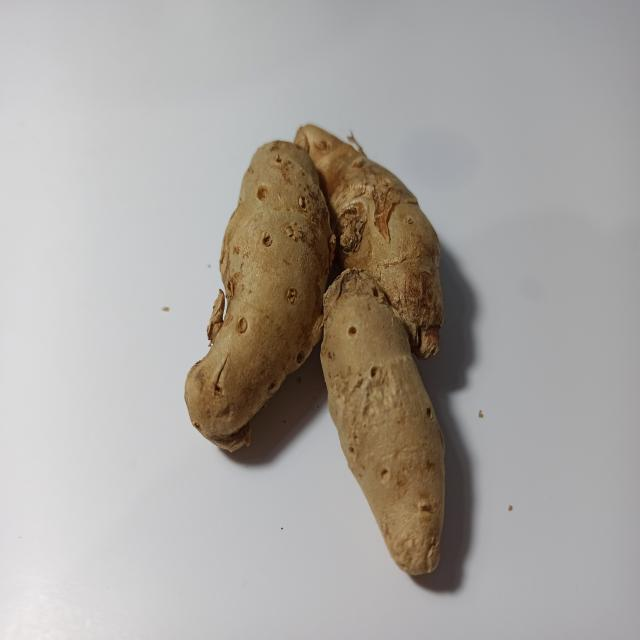ginger: (181, 103, 453, 570)
